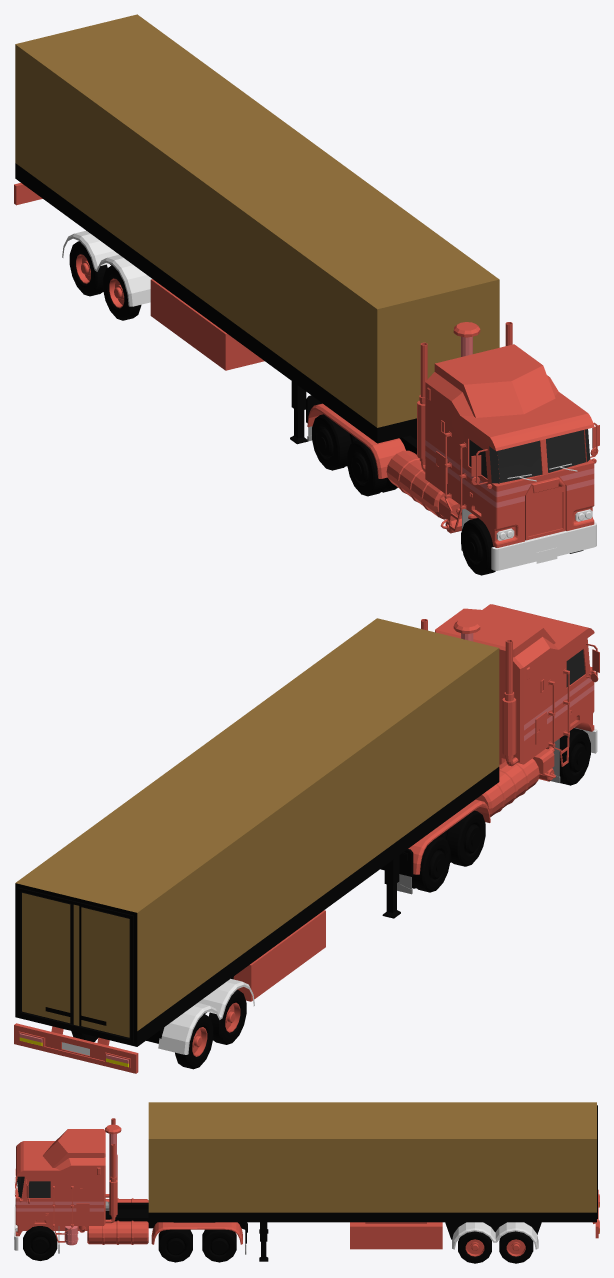
File: truck-container_002.glb
3 views of the same model, one above another, from view 1: azimuth 30°, elevation 25°; view 2: azimuth 150°, elevation 25°; view 3: azimuth 270°, elevation 25° (orthographic). The views are drawn at different scales.
Parts seen in each view (by area): view 1: TrailerBox_2, Cabin, wheels, Trailer2, bumper, wing_2, barrel, wheel_wings, wheels1_3, exhaust, wheels2_3; view 2: TrailerBox_2, Cabin, Trailer2, wheels, wing_2, barrel, exhaust, wheels1_3, wheels2_3, wheel_wings, steps; view 3: TrailerBox_2, Cabin, wheels, Trailer2, barrel, wing_2, wheels1_3, wheels2_3, wheel_wings, bottom, exhaust, pipe (+2 smaller).
Part boxes in pixels (left/top/right/bottom): TrailerBox_2: left=15, top=14, right=499, bottom=444; Cabin: left=425, top=344, right=594, bottom=547; wheels: left=312, top=414, right=583, bottom=575; Trailer2: left=14, top=183, right=264, bottom=370; bumper: left=491, top=522, right=596, bottom=570; wing_2: left=62, top=230, right=151, bottom=306; barrel: left=386, top=450, right=446, bottom=519; wheel_wings: left=307, top=403, right=405, bottom=478; wheels1_3: left=69, top=241, right=107, bottom=296; exhaust: left=417, top=322, right=512, bottom=471; wheels2_3: left=103, top=265, right=141, bottom=320; TrailerBox_2: left=15, top=618, right=499, bottom=1046; Cabin: left=435, top=604, right=594, bottom=764; Trailer2: left=14, top=910, right=325, bottom=1073; wheels: left=412, top=728, right=590, bottom=892; wing_2: left=158, top=978, right=254, bottom=1054; barrel: left=475, top=758, right=539, bottom=816; exhaust: left=421, top=619, right=518, bottom=766; wheels1_3: left=71, top=1014, right=213, bottom=1069; wheels2_3: left=208, top=990, right=246, bottom=1044; wheel_wings: left=408, top=799, right=490, bottom=874; steps: left=548, top=668, right=569, bottom=766; TrailerBox_2: left=148, top=1102, right=597, bottom=1261; Cabin: left=15, top=1129, right=105, bottom=1236; wheels: left=23, top=1226, right=236, bottom=1262; Trailer2: left=350, top=1189, right=599, bottom=1249; barrel: left=87, top=1198, right=148, bottom=1244; wing_2: left=452, top=1222, right=538, bottom=1249; wheels1_3: left=499, top=1231, right=533, bottom=1263; wheels2_3: left=458, top=1231, right=491, bottom=1263; wheel_wings: left=151, top=1222, right=242, bottom=1244; bottom: left=105, top=1202, right=247, bottom=1243; exhaust: left=105, top=1118, right=117, bottom=1223; pipe: left=105, top=1124, right=121, bottom=1210.
Bounding box in the file's own units: 1.85 × 2.8 × 11.82.
